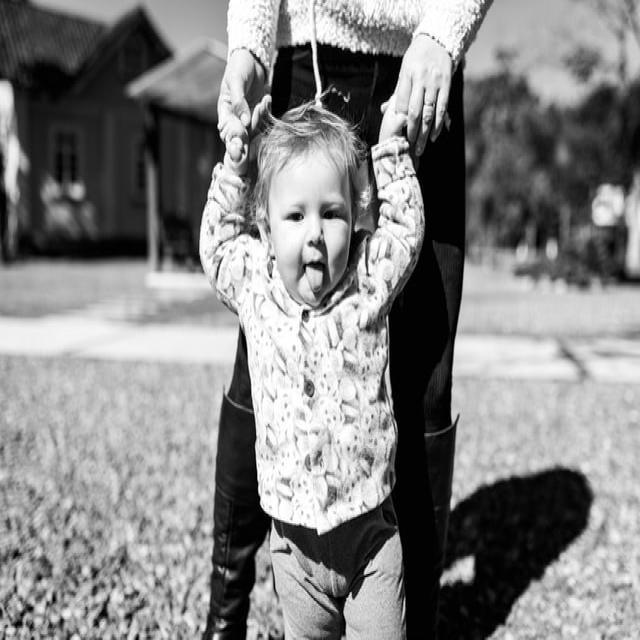non-dog: (201, 0, 497, 640), (198, 96, 427, 640)
